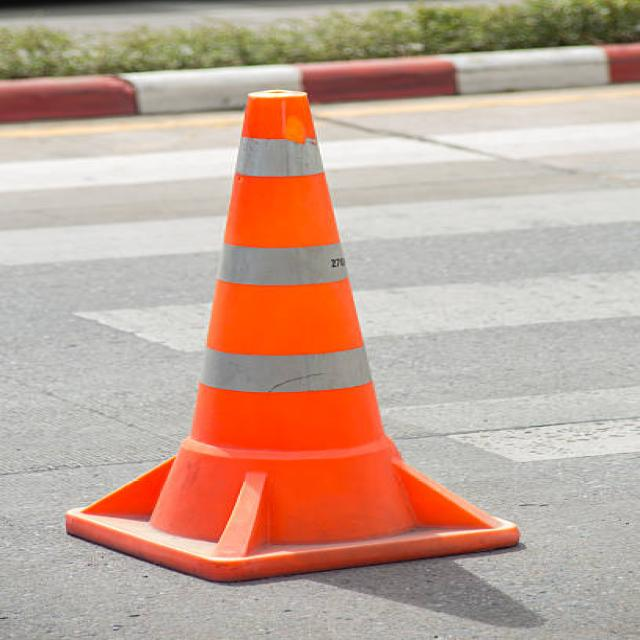Traffic Cone: (34, 61, 554, 601)
